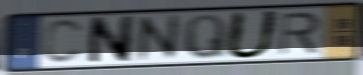C: (40, 18, 87, 66)
N: (86, 14, 137, 66), (135, 12, 181, 65)
Q: (181, 13, 229, 61)
R: (277, 10, 323, 58)
U: (223, 9, 283, 61)
